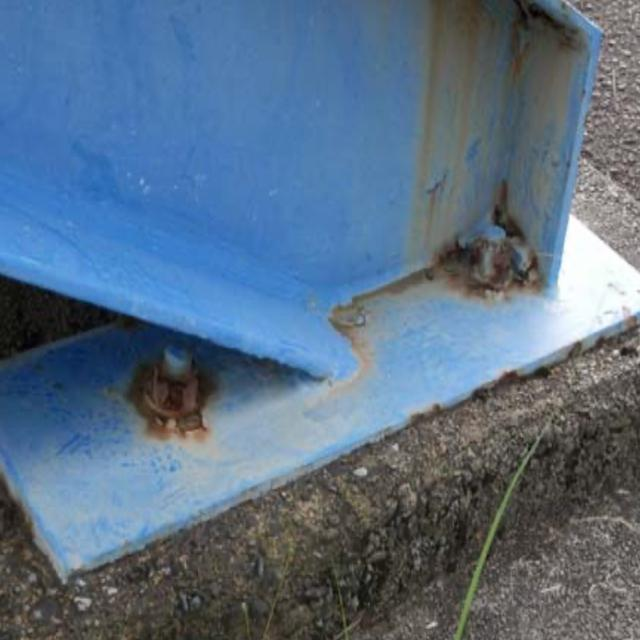corrosion: (436, 196, 558, 300), (120, 332, 223, 452)
